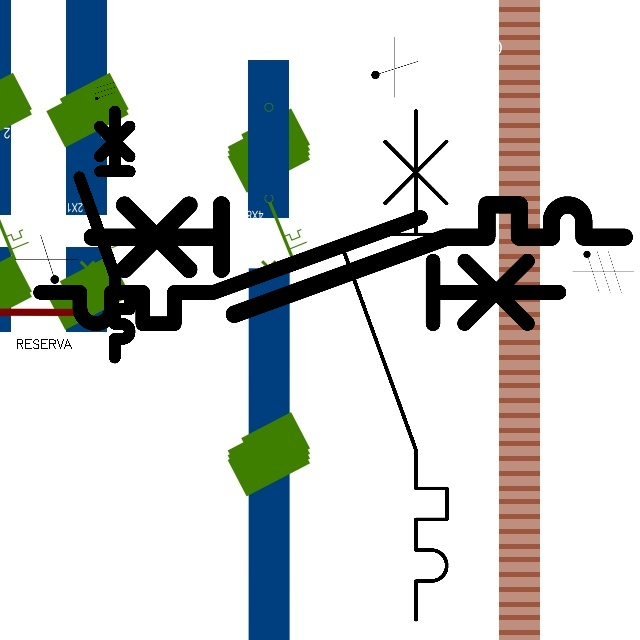interruptor_termomagnetico: (78, 191, 638, 328), (27, 204, 572, 337), (329, 97, 460, 633), (73, 105, 136, 364)
